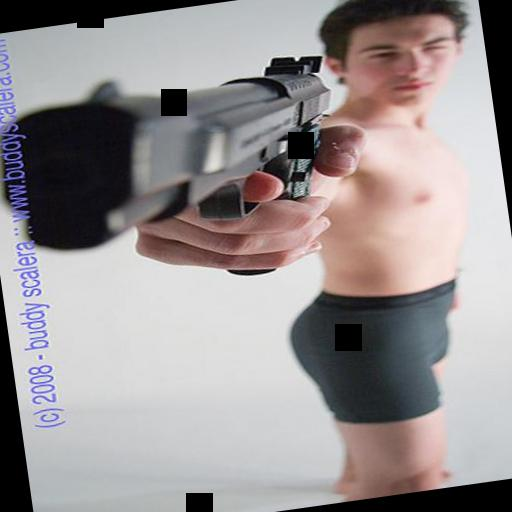Handgun: (0, 49, 350, 314)
